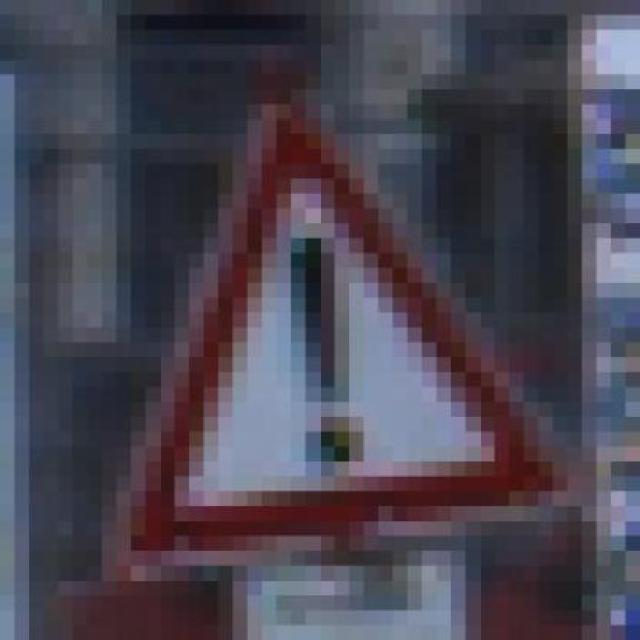Attention Please-: (101, 89, 582, 566)
